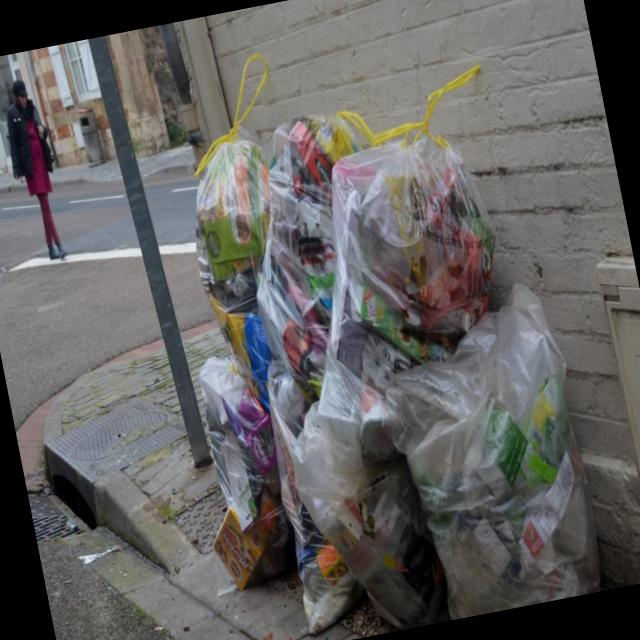garbage: (138, 50, 628, 640)
